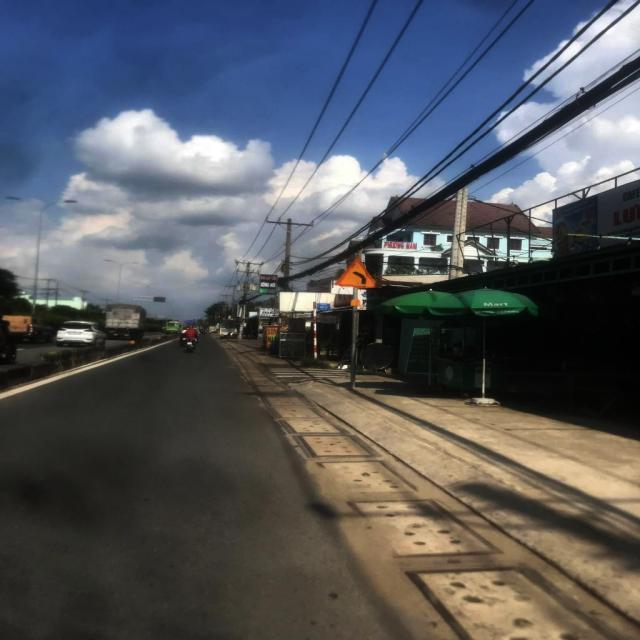201-cho-ngoat-nguy-hiem: (335, 256, 378, 288)
